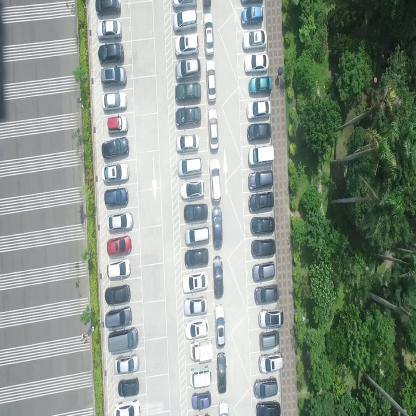car: (107, 325, 139, 353), (172, 8, 198, 34), (174, 57, 201, 82), (247, 143, 275, 167), (101, 136, 130, 159), (104, 305, 133, 328), (174, 105, 202, 128), (100, 65, 128, 88), (241, 28, 267, 52), (97, 18, 123, 42), (253, 282, 280, 305), (174, 82, 202, 104), (101, 162, 129, 184), (189, 337, 213, 362), (177, 155, 203, 178), (247, 168, 274, 190), (248, 190, 275, 212), (182, 271, 209, 293), (101, 90, 128, 112), (106, 234, 133, 256), (104, 283, 131, 305), (106, 210, 134, 231), (209, 158, 222, 203), (188, 364, 212, 388), (258, 350, 283, 373), (253, 375, 278, 398), (174, 34, 199, 57), (258, 306, 284, 328), (179, 178, 205, 200), (98, 42, 124, 64), (114, 352, 140, 374), (240, 5, 264, 28), (251, 260, 276, 282), (185, 224, 210, 246), (184, 318, 209, 340), (243, 53, 269, 74), (203, 11, 215, 56), (205, 59, 217, 103), (207, 107, 219, 151), (212, 255, 224, 299), (246, 100, 271, 121), (184, 248, 209, 269), (183, 295, 208, 316), (106, 258, 131, 279), (113, 397, 142, 415), (215, 304, 226, 350), (248, 75, 272, 96), (175, 132, 199, 153), (183, 202, 208, 222), (104, 186, 129, 206), (246, 122, 272, 141), (251, 238, 277, 257), (190, 389, 212, 411), (118, 376, 140, 398), (250, 214, 275, 233), (216, 351, 227, 394), (255, 398, 281, 416), (212, 206, 223, 248), (106, 113, 128, 134), (259, 330, 280, 351), (95, 0, 122, 16), (172, 0, 197, 10), (218, 398, 229, 416)
